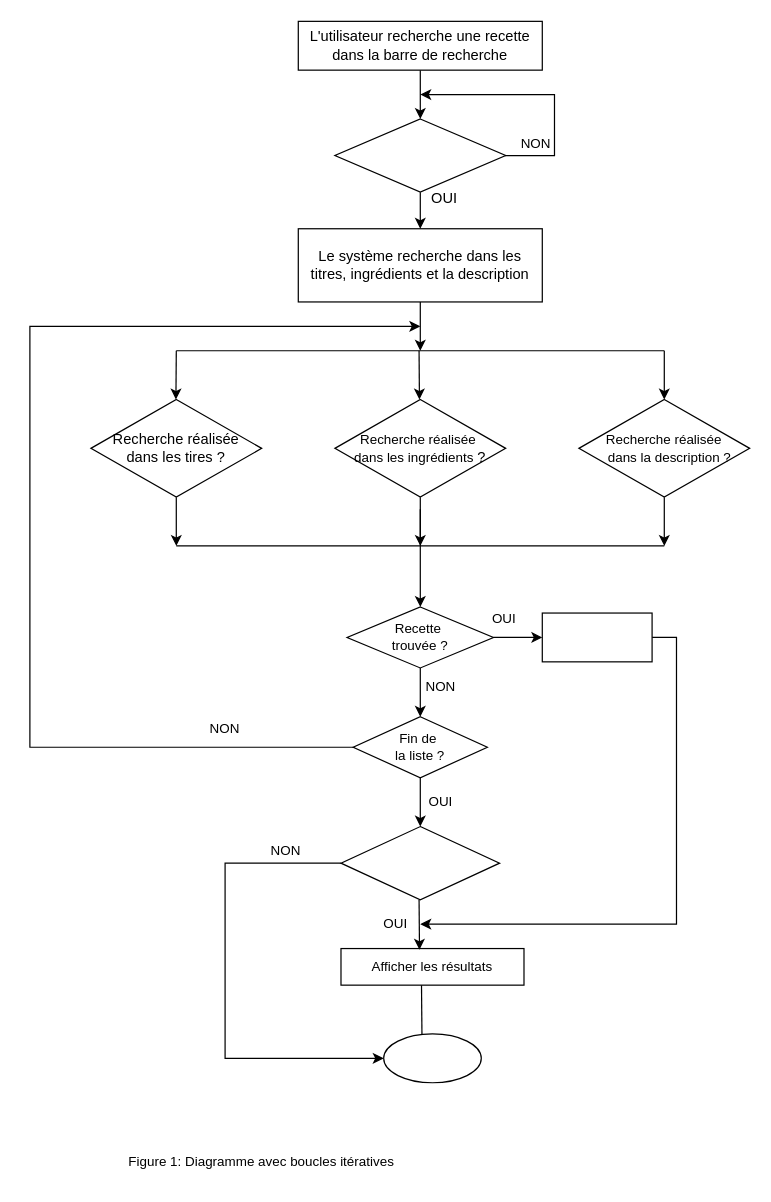
This 771x1202 diagram has some shape labels left out. Each missing label, with the centre of its shape:
"FIN" belongs at point 431,1058.
"Nombre de lettres > = 3 ?" belongs at point 420,155.
"Stock du résultat" belongs at point 596,637.
"Y a-t-il au moins un résultat ?" belongs at point 420,862.
